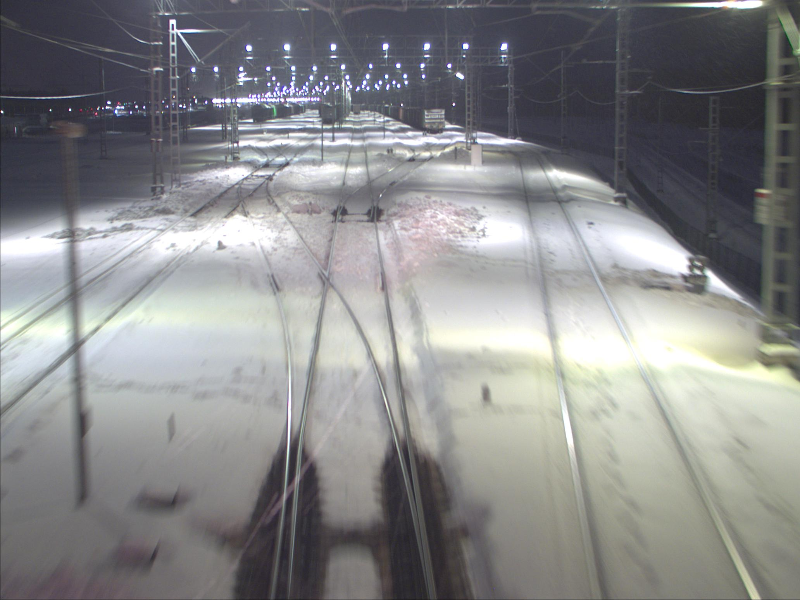left: (268, 264, 447, 598)
right: (337, 180, 379, 222)
